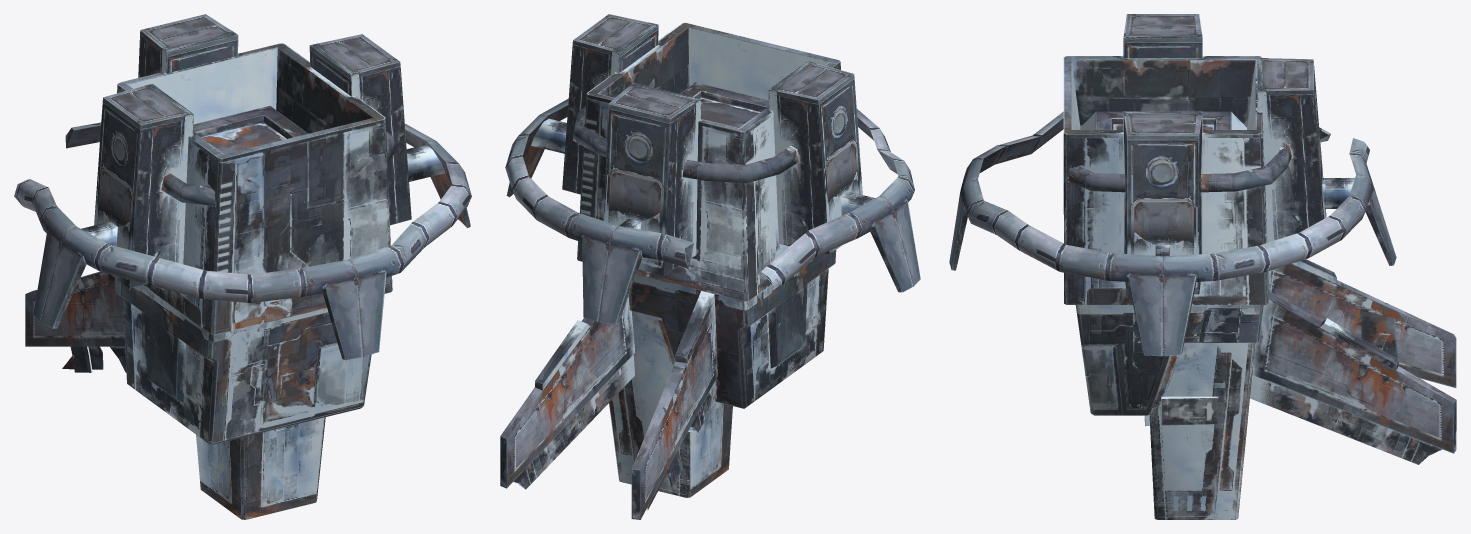
The model's file is hth_item_debris_ship_medium_e.glb.
The picture shows the model from 3 angles, left to right: view 1: azimuth 30°, elevation 25°; view 2: azimuth 150°, elevation 25°; view 3: azimuth 270°, elevation 25°; orthographic projection. The views are drawn at different scales.
Parts seen in each view (by area): view 1: hth_item_debris_ship_medium_e; view 2: hth_item_debris_ship_medium_e; view 3: hth_item_debris_ship_medium_e.
Boxes of the visible parts, x1,y1,x2,y2 form: hth_item_debris_ship_medium_e: [14, 14, 471, 519]; hth_item_debris_ship_medium_e: [500, 14, 920, 519]; hth_item_debris_ship_medium_e: [949, 14, 1456, 519].
Size of the model in its own units: 2.25 by 2.21 by 2.44.
Materials: 1 (1 with a texture image).
